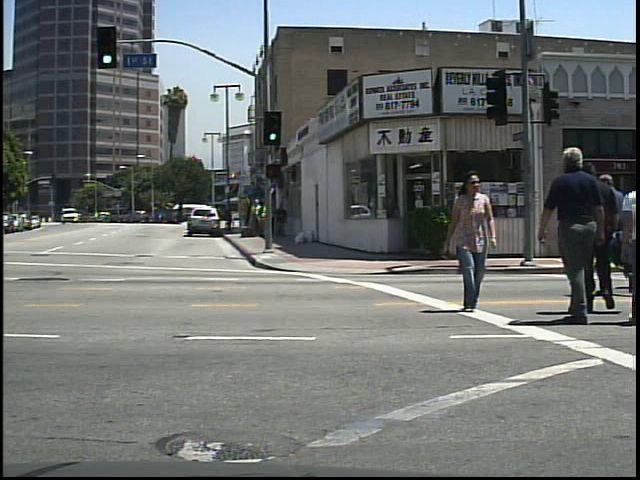person: (546, 142, 614, 325), (446, 168, 502, 316)
